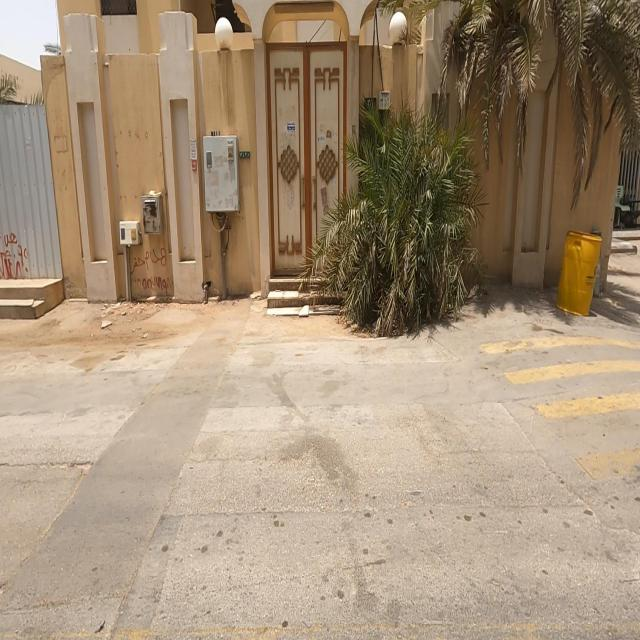Graffiti: (132, 248, 172, 297), (1, 231, 30, 284)
